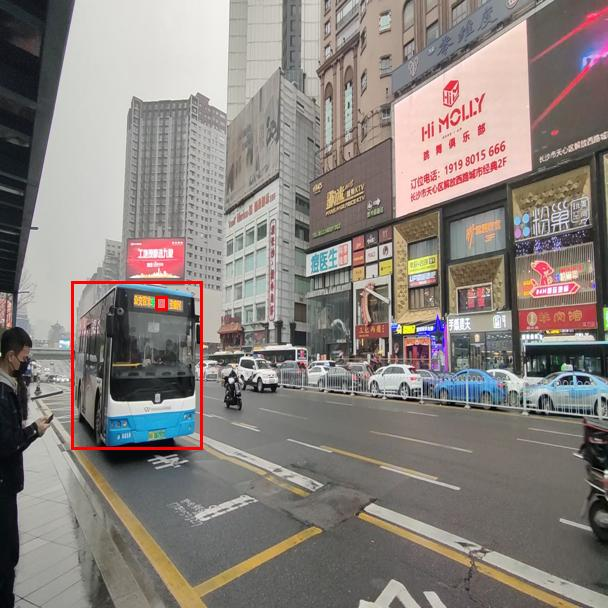bus: (71, 281, 202, 449)
screen: (155, 296, 167, 310)
